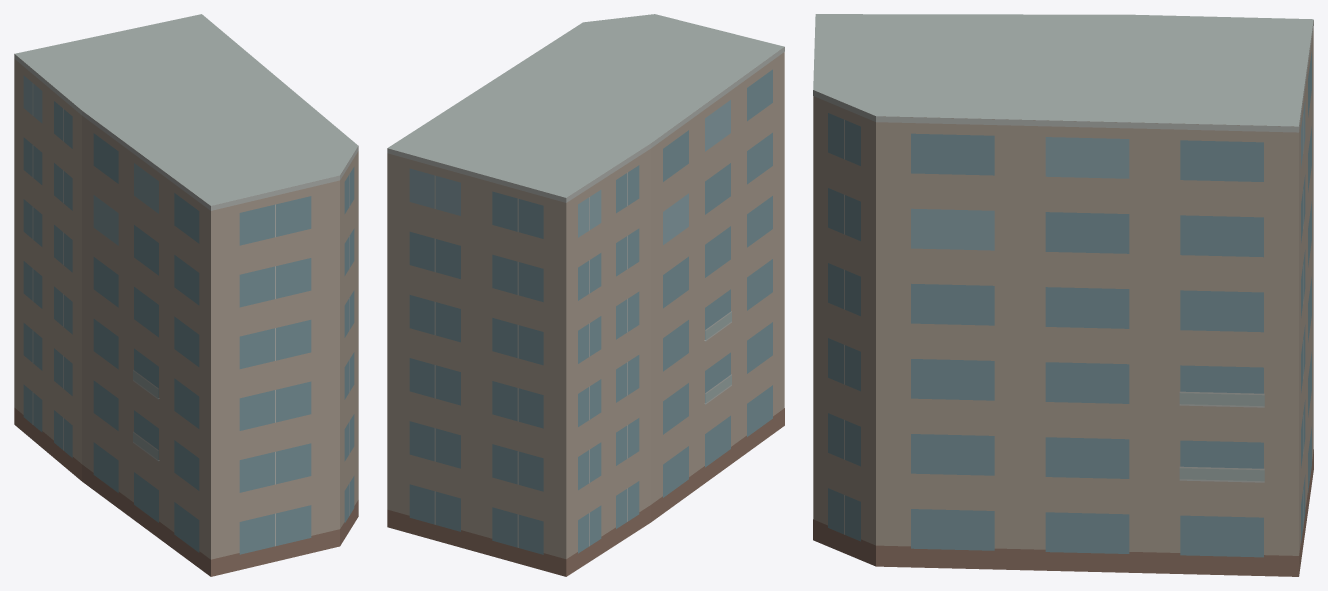
The model's file is survey-upis-33000263.glb.
3 renders of one model, left to right at view 1: azimuth 30°, elevation 25°; view 2: azimuth 150°, elevation 25°; view 3: azimuth 270°, elevation 25°, orthographic. The views are drawn at different scales.
Visible parts, largest first — view 1: survey-upis-33000263.tmp; view 2: survey-upis-33000263.tmp; view 3: survey-upis-33000263.tmp.
Part boxes in pixels (x1,y1,x2,y2): survey-upis-33000263.tmp: (14,14,358,576); survey-upis-33000263.tmp: (387,14,784,576); survey-upis-33000263.tmp: (813,14,1313,576).
Bounding box in the file's own units: 9.88 × 18.4 × 18.55.
